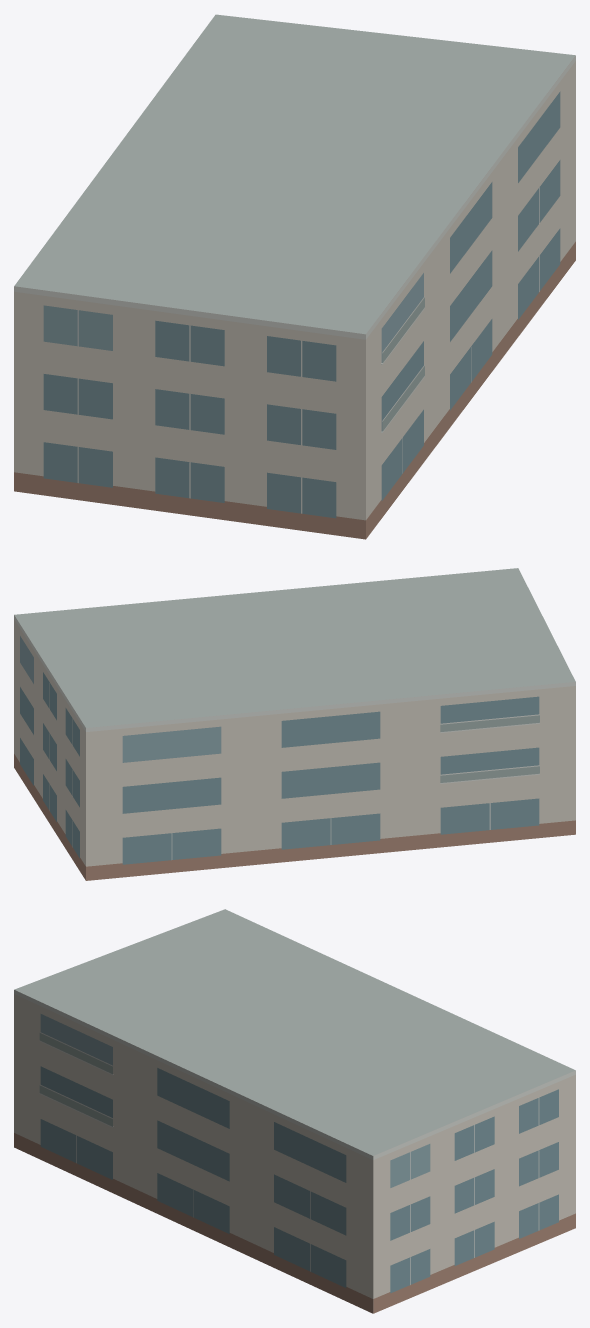
The model's file is survey-upis-32949211.glb.
3 views of the same model, one above another, from view 1: azimuth 30°, elevation 25°; view 2: azimuth 150°, elevation 25°; view 3: azimuth 270°, elevation 25° (orthographic). The views are drawn at different scales.
Visible parts, largest first — view 1: survey-upis-32949211.tmp; view 2: survey-upis-32949211.tmp; view 3: survey-upis-32949211.tmp.
Part boxes in pixels (x1,y1,x2,y2): survey-upis-32949211.tmp: [14, 14, 575, 539]; survey-upis-32949211.tmp: [14, 568, 575, 880]; survey-upis-32949211.tmp: [14, 909, 575, 1313].
Bounding box in the file's own units: 30.72 × 9.15 × 29.54.
